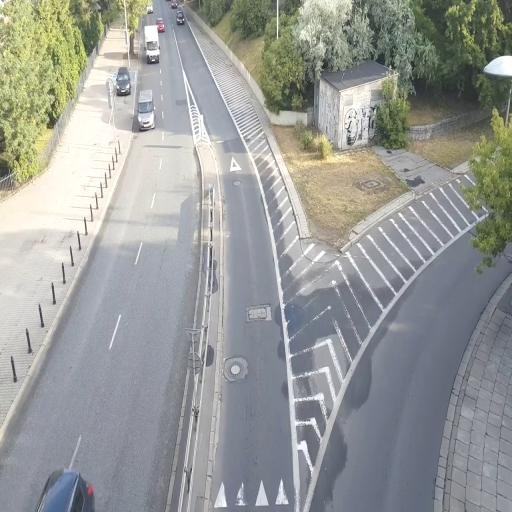vehicle: (136, 90, 155, 130), (143, 22, 161, 64), (114, 67, 132, 96), (144, 33, 160, 64), (176, 10, 186, 26)
